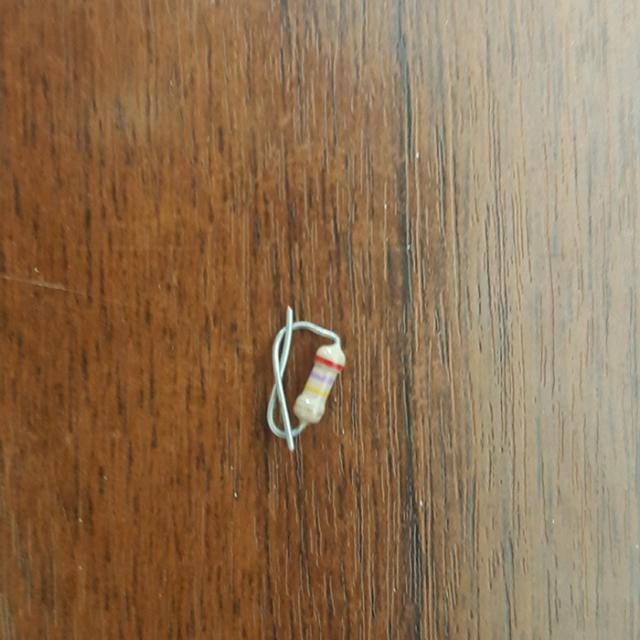gold: (298, 405, 320, 416)
red: (315, 356, 340, 369)
resistor: (285, 337, 357, 432)
violet: (312, 373, 334, 383)
yellow: (305, 385, 327, 395)
